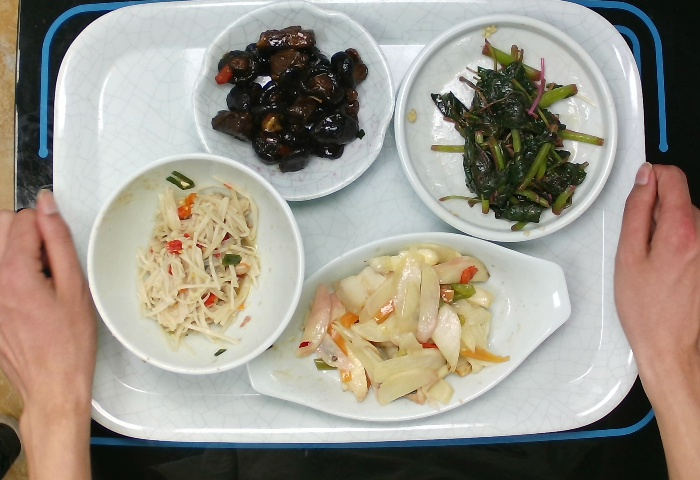JYsf-Ao_Yuan_Wan: (184, 1, 397, 206)
JYsf-Fan_Wan: (81, 149, 310, 380)
JYsf-Xiao_Yuan_Pan: (394, 8, 621, 249)
JYsf-Yu_Pan: (227, 229, 577, 422)
